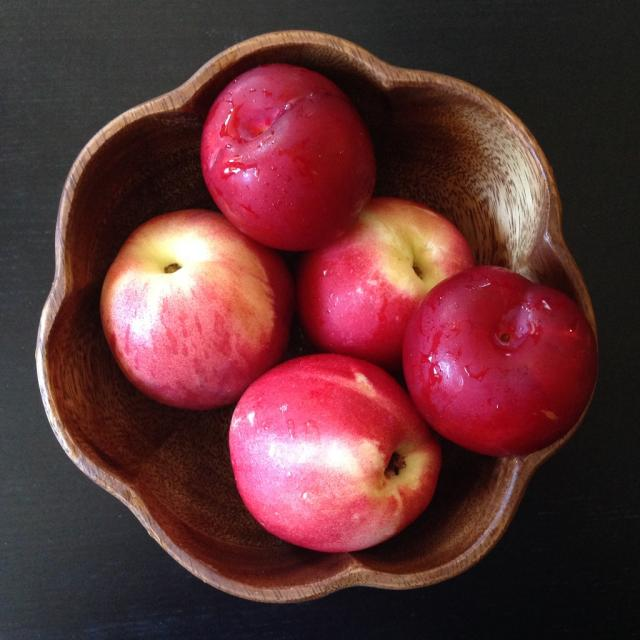Healty Apple: (230, 352, 455, 556), (98, 210, 296, 415), (398, 260, 599, 456), (200, 66, 378, 248), (298, 194, 477, 366)
